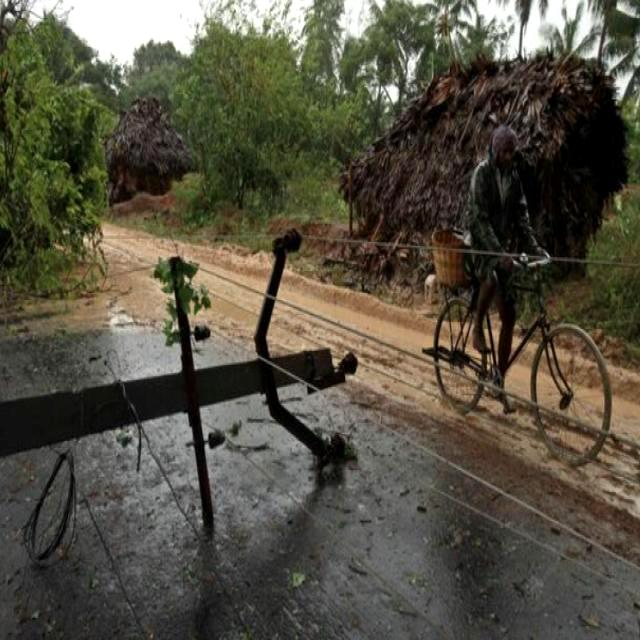Broken Pole: (0, 216, 376, 512)
